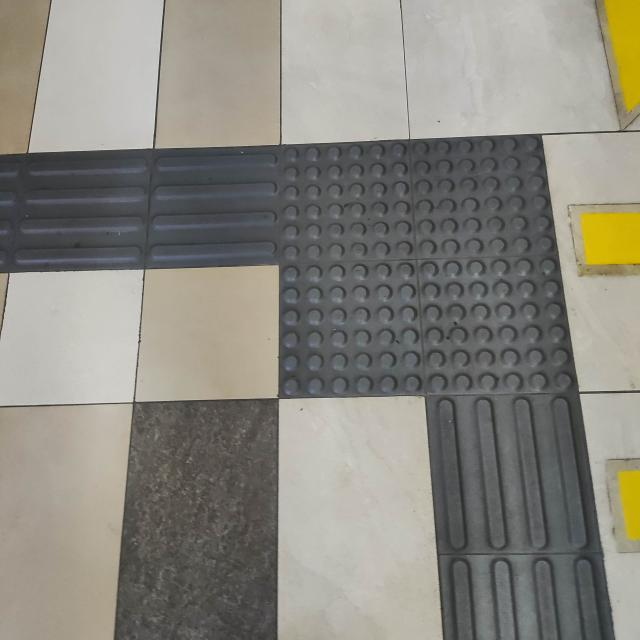kiri: (57, 90, 640, 500)
